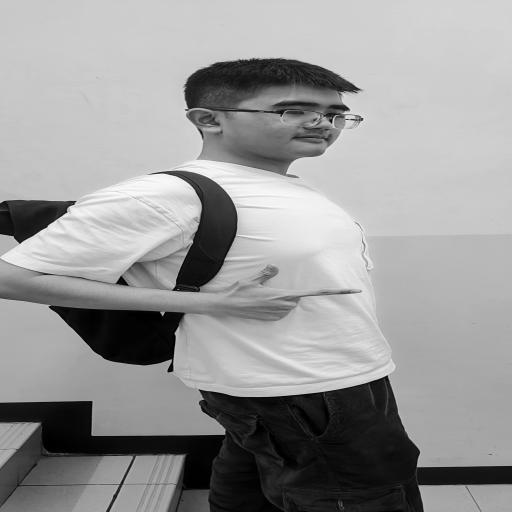next: (193, 258, 371, 330)
